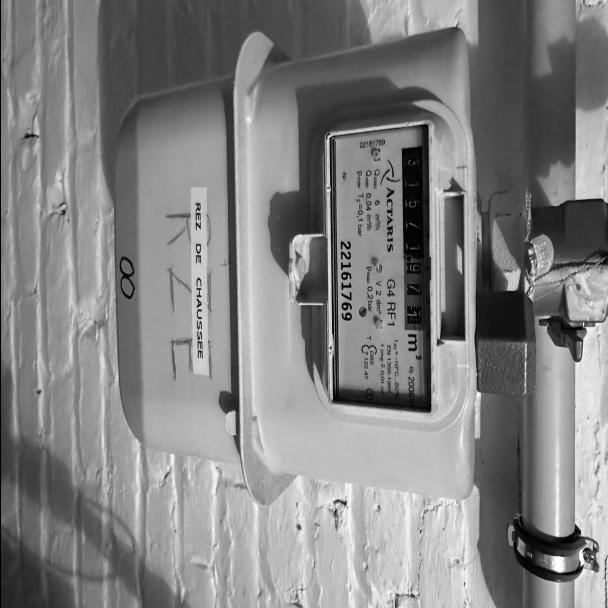1: (403, 301, 424, 329), (396, 177, 422, 197), (398, 238, 424, 258)
3: (395, 147, 427, 179)
5: (398, 196, 422, 216)
7: (400, 217, 424, 238), (403, 280, 425, 298)
9: (403, 260, 424, 280)
cm: (400, 258, 425, 333)
counter: (392, 142, 427, 260)
